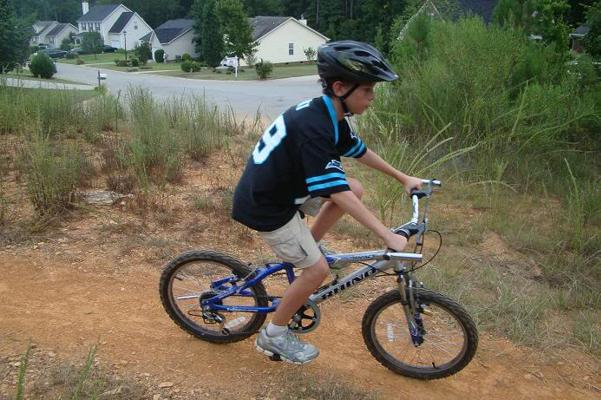person: (233, 41, 427, 370)
